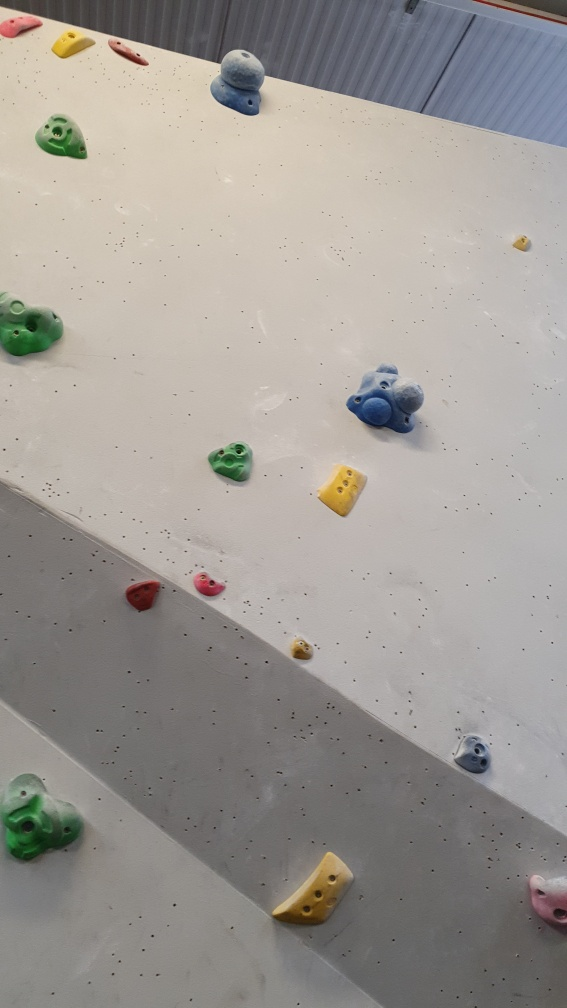Crimp: (265, 844, 356, 935), (311, 455, 375, 527), (104, 32, 149, 66)
Jug: (2, 771, 86, 869), (1, 290, 70, 373), (203, 430, 259, 488), (33, 109, 90, 165)
Pinch: (52, 27, 97, 67)
Sloper: (342, 353, 436, 440), (210, 40, 268, 123)
